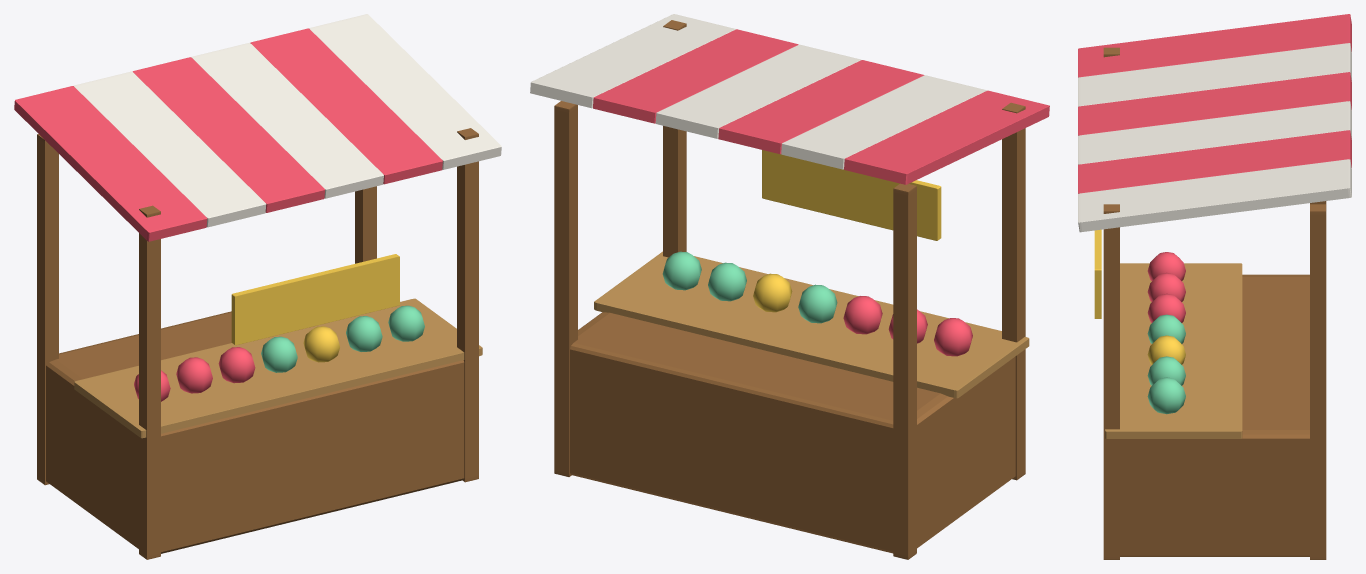
File: stanek.glb
3 renders of one model, left to right at view 1: azimuth 30°, elevation 25°; view 2: azimuth 150°, elevation 25°; view 3: azimuth 270°, elevation 25°, orthographic. The views are drawn at different scales.
Parts seen in each view (by area): view 1: stanek; view 2: stanek; view 3: stanek.
Boxes of the visible parts, <box> form: stanek: <box>14,14,501,559</box>; stanek: <box>530,14,1049,559</box>; stanek: <box>1078,14,1351,559</box>.
Bounding box in the file's own units: 3 × 3.03 × 1.99.
4 materials, 4 textured.
